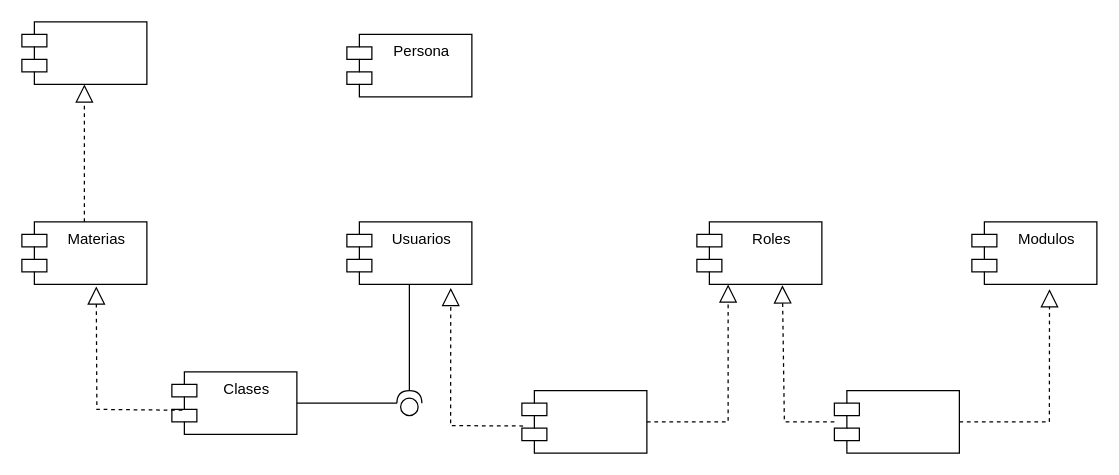
The diagram is 1119 pixels wide and 475 high, and some of its shapes have lost their labels. Each missing label, with the centre of its shape:
Carreras: (84,52)
ROLXMOD: (896,421)
USUXROL: (584,421)
